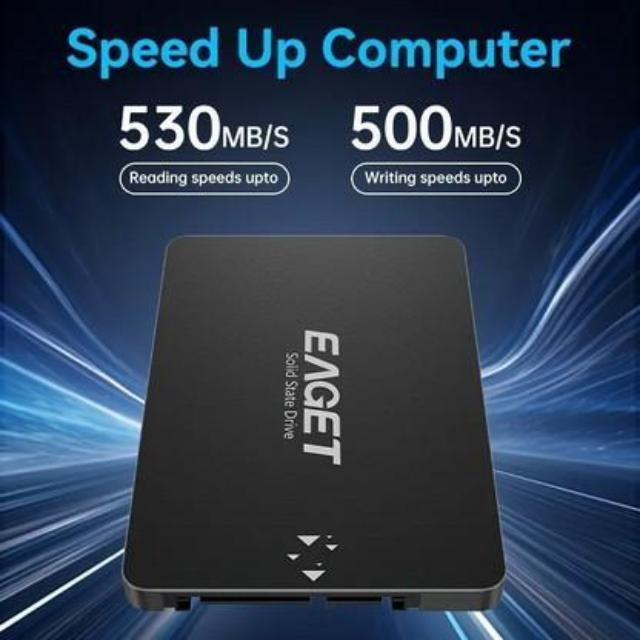DISK: (113, 225, 527, 620)
